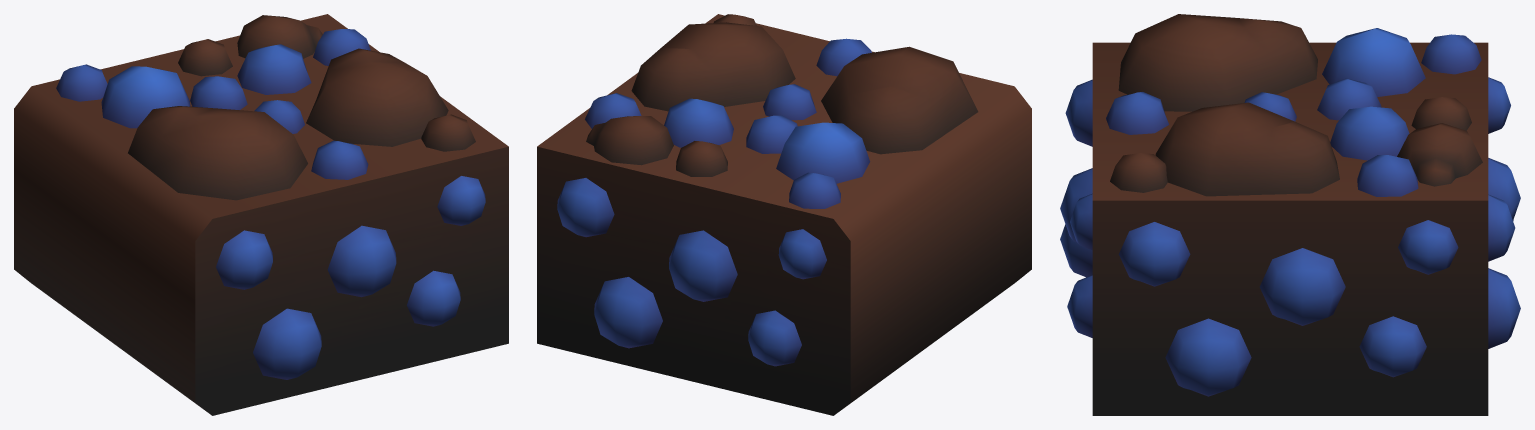
Rendered from m_SheetCake01_Slice02.fbx.
3 renders of one model, left to right at view 1: azimuth 30°, elevation 25°; view 2: azimuth 150°, elevation 25°; view 3: azimuth 270°, elevation 25°, orthographic. The views are drawn at different scales.
Visible parts, largest first — view 1: m_SheetCake01_Slice02; view 2: m_SheetCake01_Slice02; view 3: m_SheetCake01_Slice02.
Boxes of the visible parts, bbox=[...] form: m_SheetCake01_Slice02: bbox=[14, 14, 508, 415]; m_SheetCake01_Slice02: bbox=[537, 14, 1031, 415]; m_SheetCake01_Slice02: bbox=[1060, 14, 1520, 415].
Bounding box in the file's own units: 10.82 × 7.57 × 11.65.
